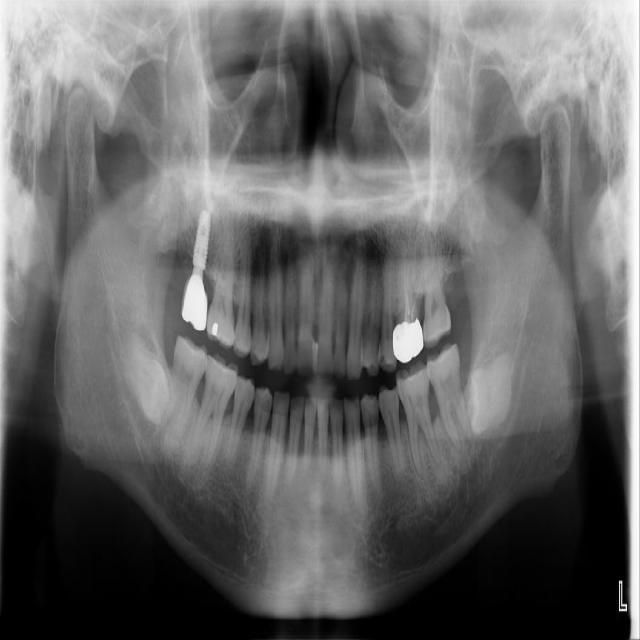52: (203, 296, 239, 352), (389, 311, 426, 365), (180, 272, 209, 334)
73: (394, 238, 430, 321), (597, 600, 608, 612)
BioHorizons Implant: (419, 225, 452, 348)
Biomet 3i Implant: (463, 347, 516, 438)
Blue Sky Bio Implant: (423, 341, 474, 454)
Implant: (157, 333, 213, 441)
Keystone Dental Implant: (118, 326, 180, 426)
